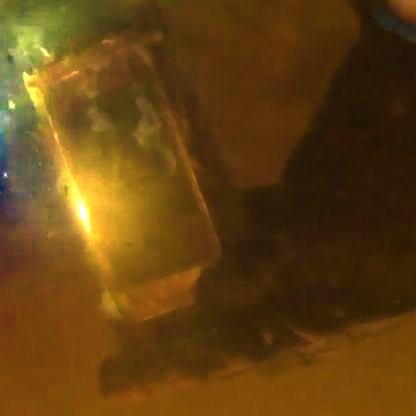cellphone: (34, 36, 227, 317)
